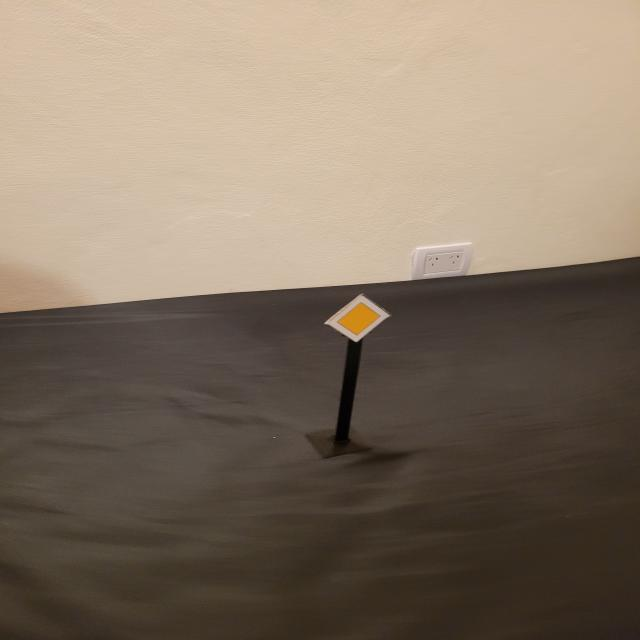priority: (323, 294, 390, 344)
